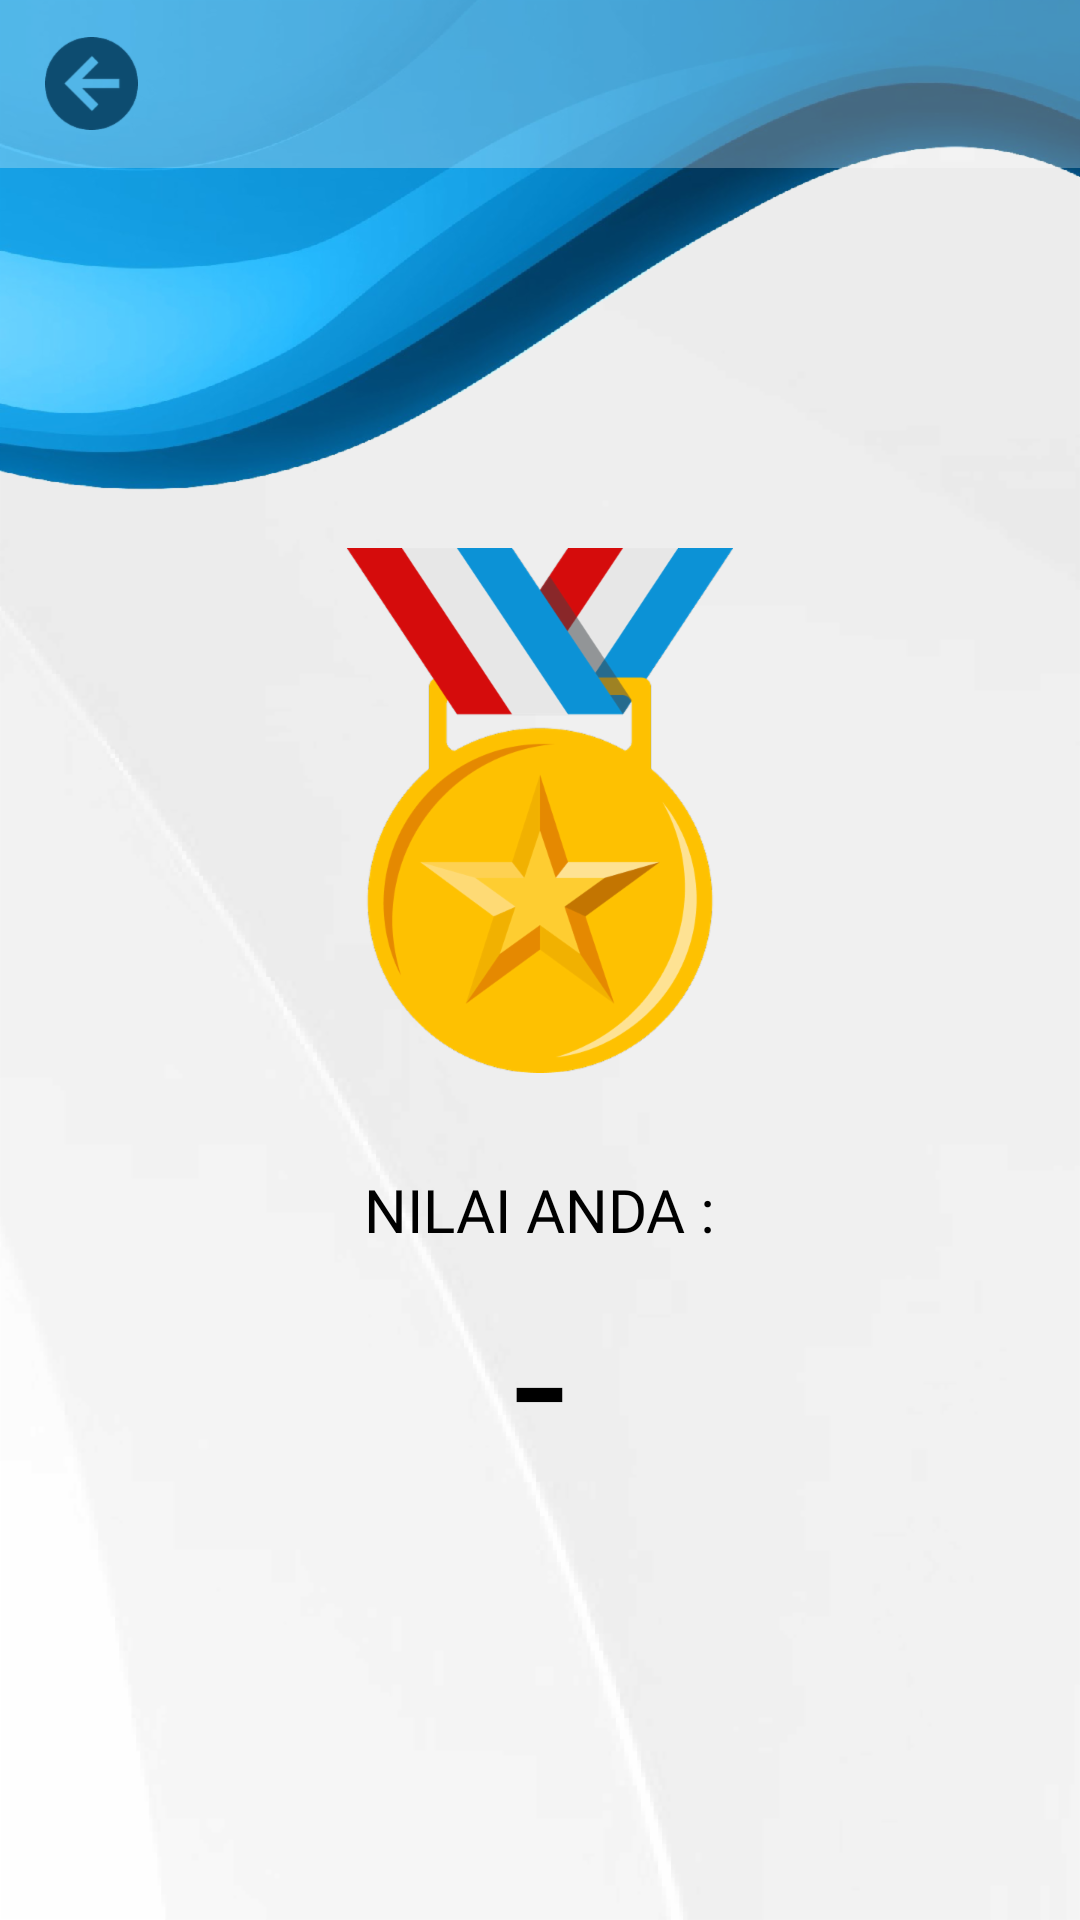

Icons on this 1080w x 1920h Android screen, each with its box as BBox(x1, y1, x2, y2):
btnback: BBox(45, 37, 138, 130)
